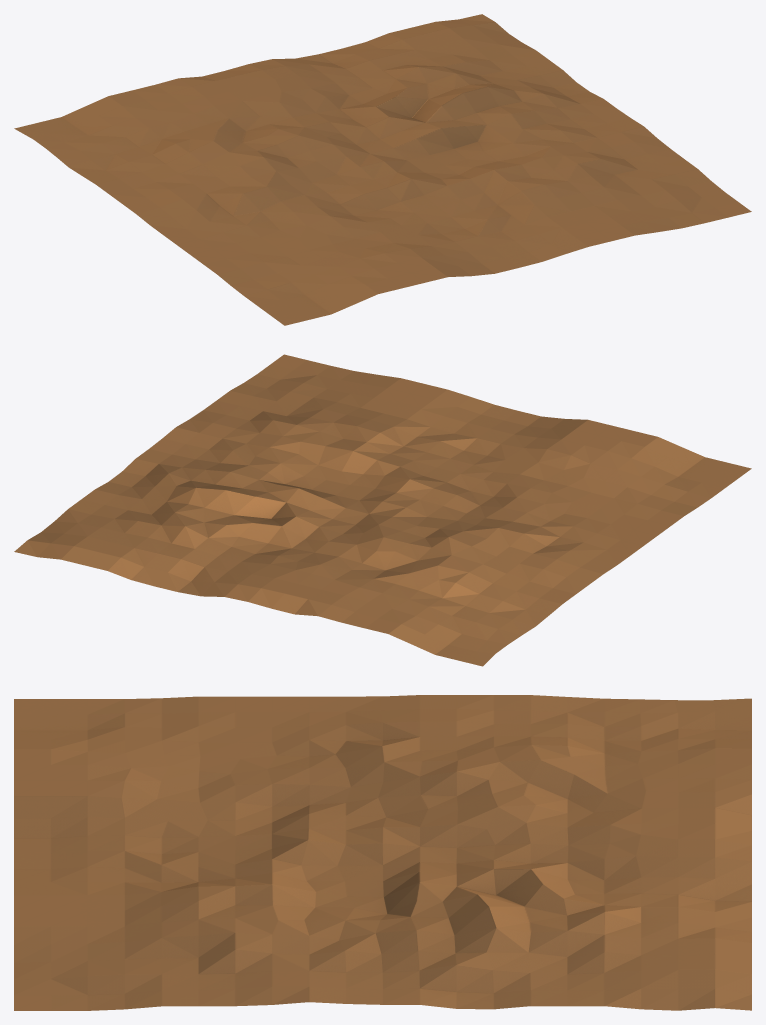
Rendered from sea_ground.fbx.
3 renders of one model, top to bottom at view 1: azimuth 30°, elevation 25°; view 2: azimuth 150°, elevation 25°; view 3: azimuth 270°, elevation 25°, orthographic. The views are drawn at different scales.
Visible parts, largest first — view 1: sea_ground; view 2: sea_ground; view 3: sea_ground.
Boxes of the visible parts, bbox=[...] form: sea_ground: bbox=[14, 14, 751, 325]; sea_ground: bbox=[14, 354, 751, 666]; sea_ground: bbox=[14, 695, 751, 1010].
Size of the model in its own units: 29.13 by 1.18 by 29.07.
